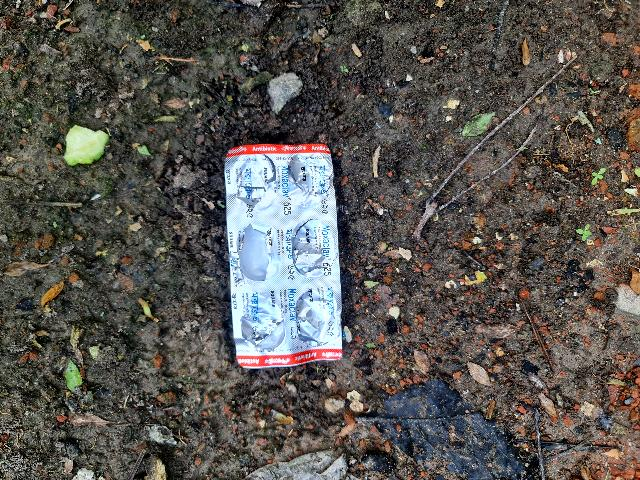medicine: (215, 130, 358, 384)
